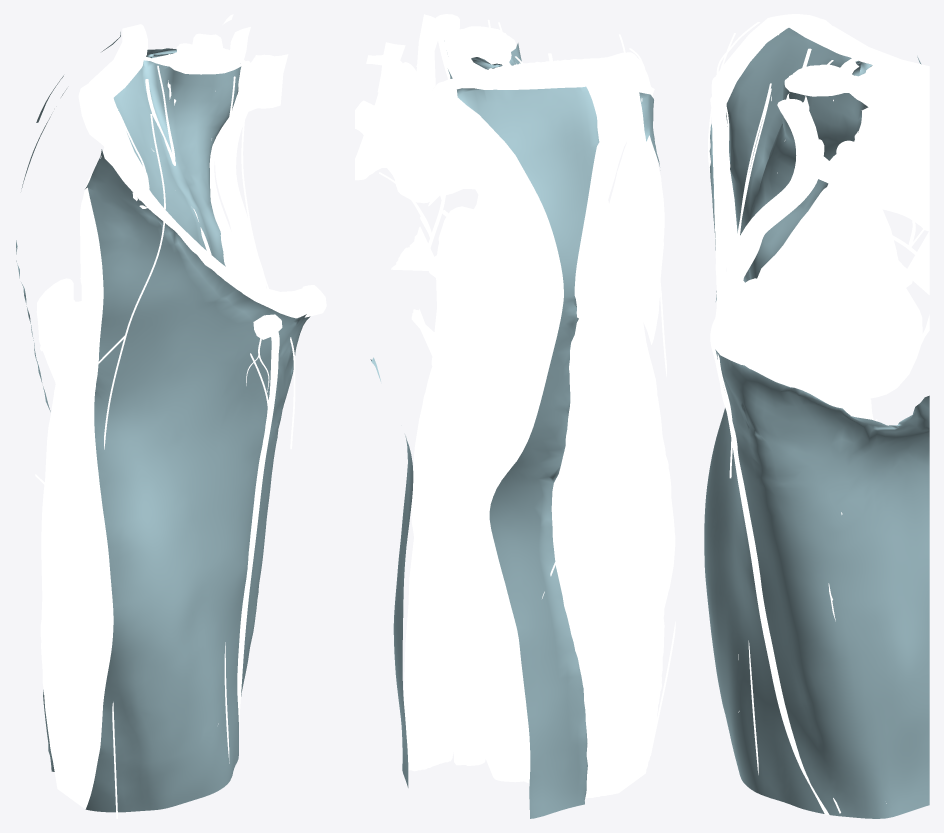
File: femoral_triangle.glb
3 views of the same model, side by side, from view 1: azimuth 30°, elevation 25°; view 2: azimuth 150°, elevation 25°; view 3: azimuth 270°, elevation 25° (orthographic). The views are drawn at different scales.
Parts seen in each view (by area): view 1: Fascia lata.r, Vastus lateralis muscle.r, Iliopsoas fascia.r, Rectus femoris muscle.r, Hip bone.r, Tensor fasciae latae.r, External iliac vein.r.001, Femur.r, Great saphenous vein.r.001, Inguinal ligament.r, Psoas major.r, Lateral femoral cutaneous nerve.r.001 (+10 smaller); view 2: Fascia lata.r, Adductor magnus.r, Vastus lateralis muscle.r, Hip bone.r, Rectus femoris muscle.r, Tensor fasciae latae.r, Gracilis muscle.r, Femur.r, Sacrum, Quadratus femoris muscle.r, Articular capsule of hip joint.r, Psoas major.r (+10 smaller); view 3: Fascia lata.r, Hip bone.r, Iliopsoas fascia.r, Sacrum, Great saphenous vein.r.001, External iliac vein.r.001, Inguinal ligament.r, Psoas major.r, Obturator membrane.r, Iliacus muscle.r, Obturator externus.r, Anterior longitudinal ligament (+13 smaller).
Part boxes in pixels (left/top/right/bottom): Fascia lata.r: left=16, top=32, right=310, bottom=812; Vastus lateralis muscle.r: left=40, top=351, right=106, bottom=808; Iliopsoas fascia.r: left=113, top=48, right=241, bottom=266; Rectus femoris muscle.r: left=76, top=362, right=113, bottom=676; Hip bone.r: left=78, top=24, right=305, bottom=318; Tensor fasciae latae.r: left=80, top=146, right=128, bottom=396; External iliac vein.r.001: left=215, top=60, right=270, bottom=254; Femur.r: left=36, top=278, right=83, bottom=383; Great saphenous vein.r.001: left=237, top=315, right=279, bottom=734; Inguinal ligament.r: left=136, top=178, right=296, bottom=316; Psoas major.r: left=167, top=43, right=240, bottom=140; Lateral femoral cutaneous nerve.r.001: left=35, top=114, right=165, bottom=818; Fascia lata.r: left=370, top=86, right=659, bottom=818; Adductor magnus.r: left=411, top=367, right=559, bottom=782; Vastus lateralis muscle.r: left=553, top=351, right=664, bottom=798; Hip bone.r: left=417, top=52, right=652, bottom=377; Rectus femoris muscle.r: left=582, top=167, right=675, bottom=608; Tensor fasciae latae.r: left=618, top=86, right=664, bottom=344; Gracilis muscle.r: left=403, top=539, right=453, bottom=771; Femur.r: left=525, top=290, right=626, bottom=783; Sacrum: left=355, top=62, right=431, bottom=203; Quadratus femoris muscle.r: left=469, top=325, right=557, bottom=400; Articular capsule of hip joint.r: left=503, top=238, right=598, bottom=313; Psoas major.r: left=444, top=26, right=539, bottom=410; Fascia lata.r: left=704, top=56, right=929, bottom=818; Hip bone.r: left=713, top=14, right=929, bottom=399; Iliopsoas fascia.r: left=726, top=28, right=872, bottom=282; Sacrum: left=822, top=93, right=929, bottom=231; Great saphenous vein.r.001: left=710, top=319, right=829, bottom=814; External iliac vein.r.001: left=733, top=111, right=814, bottom=256; Inguinal ligament.r: left=711, top=77, right=727, bottom=324; Psoas major.r: left=757, top=64, right=867, bottom=318; Obturator membrane.r: left=806, top=299, right=861, bottom=363; Iliacus muscle.r: left=727, top=26, right=880, bottom=307; Obturator externus.r: left=780, top=309, right=857, bottom=363; Anterior longitudinal ligament: left=791, top=103, right=879, bottom=207.
Bounding box in the file's own units: 0.136 × 0.43 × 0.1228.
